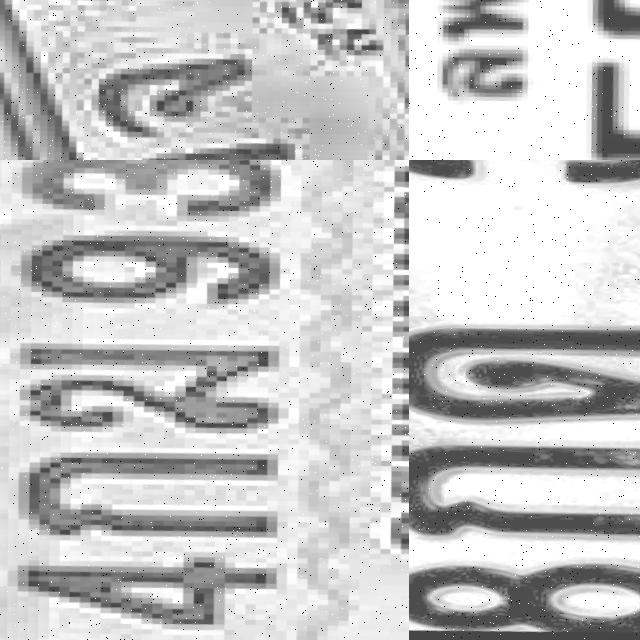license-plate: (0, 160, 409, 640), (409, 160, 640, 640), (0, 0, 409, 160), (409, 0, 640, 160)
